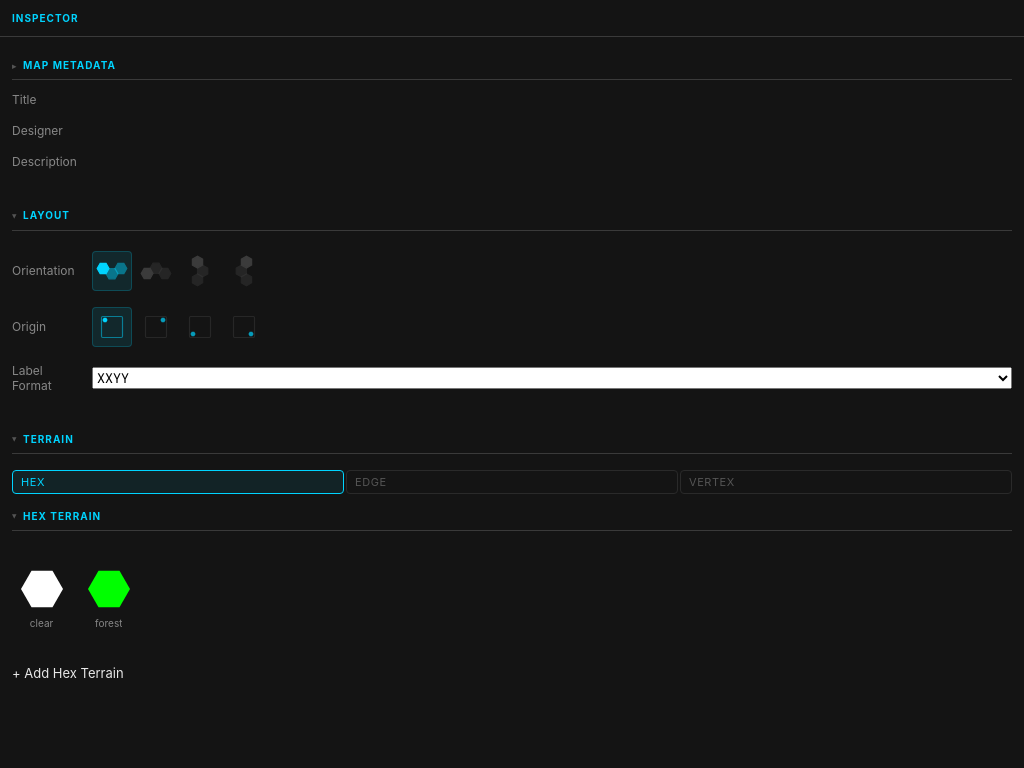
Scenario: Inspector › shows Close and Delete terrain buttons inside expanded edit form
// Double-click "forest" to expand edit form
Double-click the button "forest" at (109, 597), box [85,565,133,629]
(page scrolled)
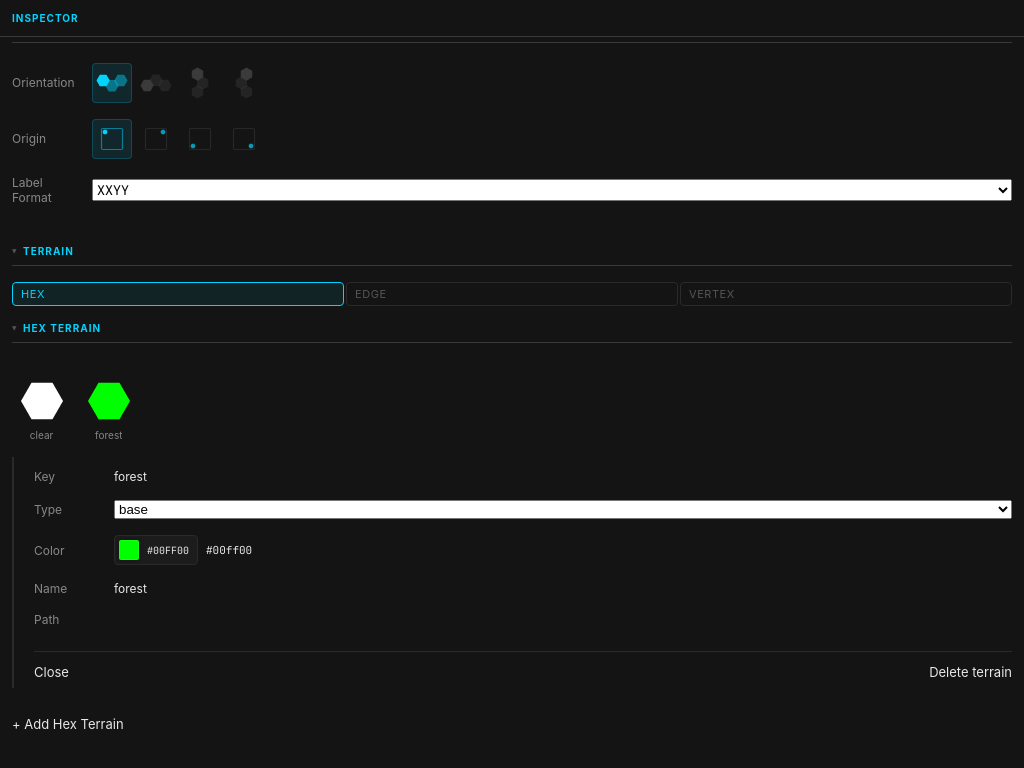
Expected: the button "Close" is shown, [34,664,69,680]
Expected: the button "Delete terrain" is shown, [929,664,1012,680]
